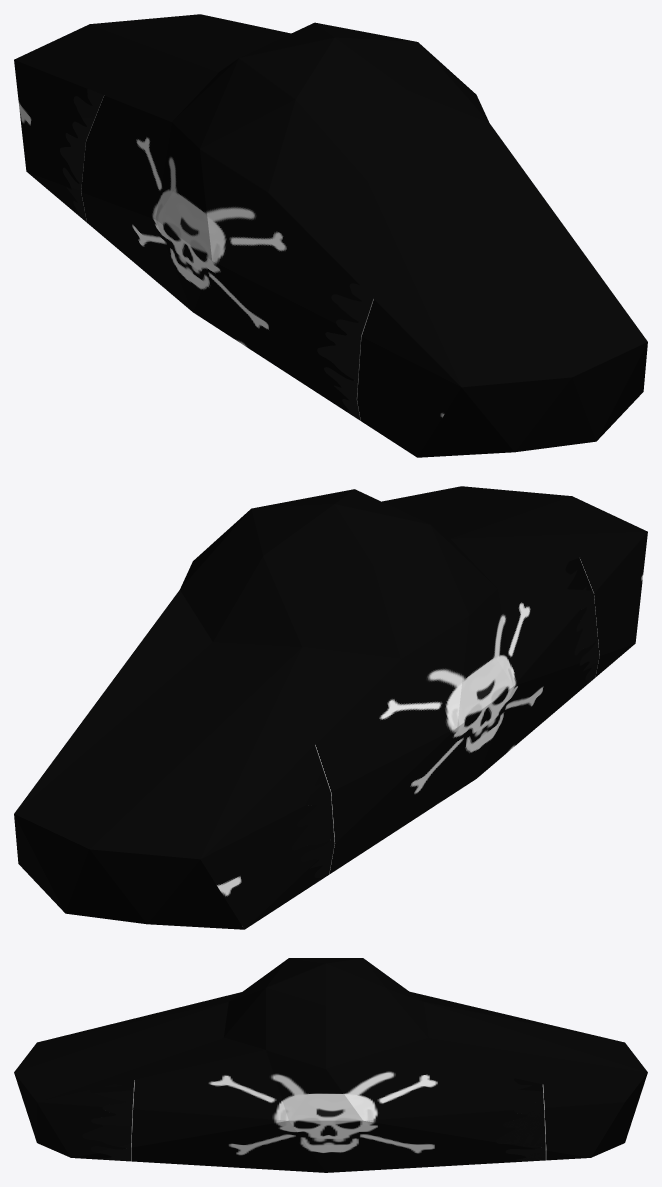
Rendered from PirateHat.fbx.
The picture shows the model from 3 angles, top to bottom: view 1: azimuth 30°, elevation 25°; view 2: azimuth 150°, elevation 25°; view 3: azimuth 270°, elevation 25°; orthographic projection. The views are drawn at different scales.
Parts seen in each view (by area): view 1: Cone; view 2: Cone; view 3: Cone.
Boxes of the visible parts, <box> form: Cone: <box>14,14,647,457</box>; Cone: <box>14,486,647,929</box>; Cone: <box>14,958,647,1172</box>.
Bounding box in the file's own units: 190 × 153 × 527.
